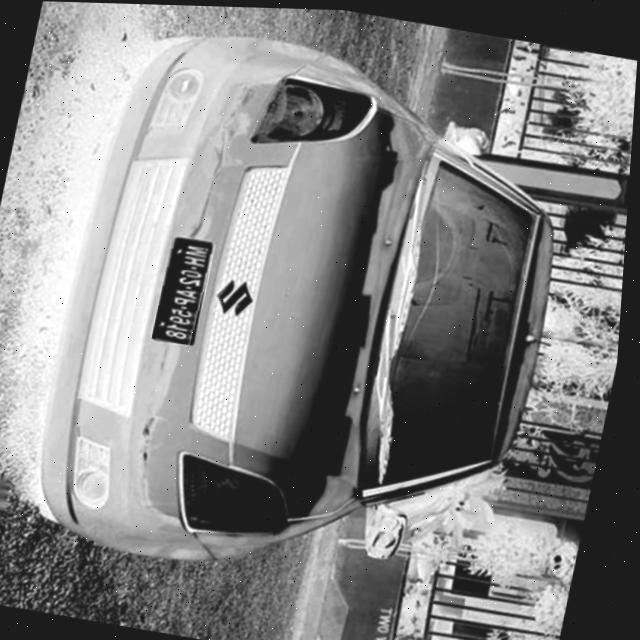Non_registered: (155, 236, 218, 345)
